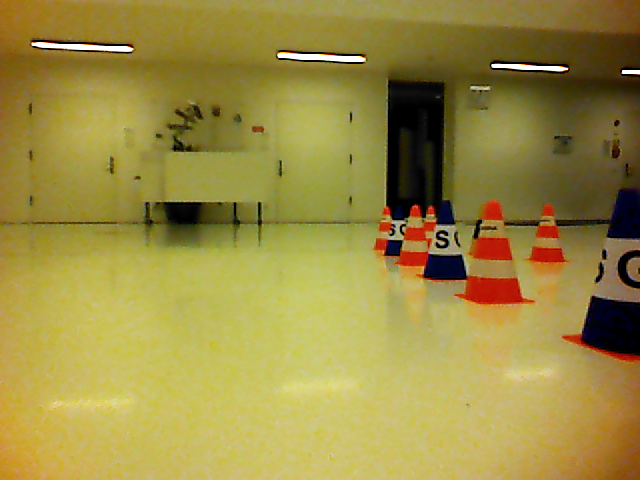bluecone: (581, 189, 640, 357), (425, 200, 468, 279), (384, 206, 406, 255)
